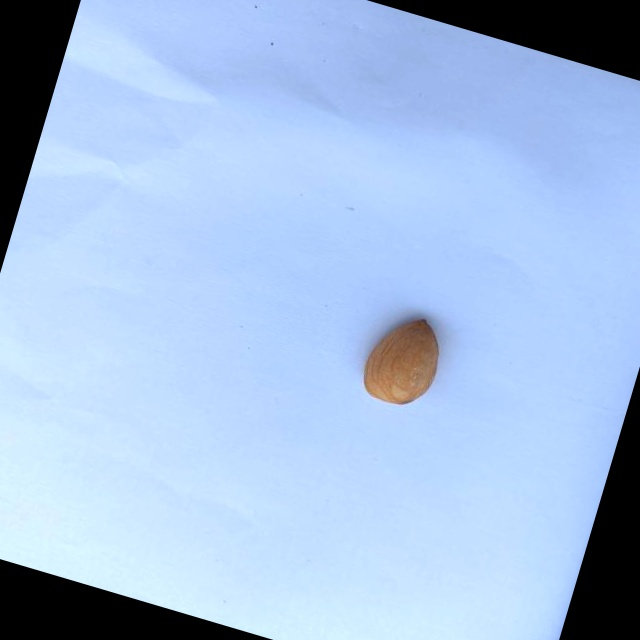grade2: (350, 302, 454, 417)
